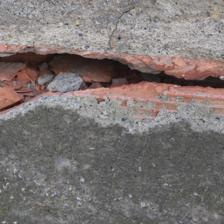Crack: (3, 40, 223, 123)
